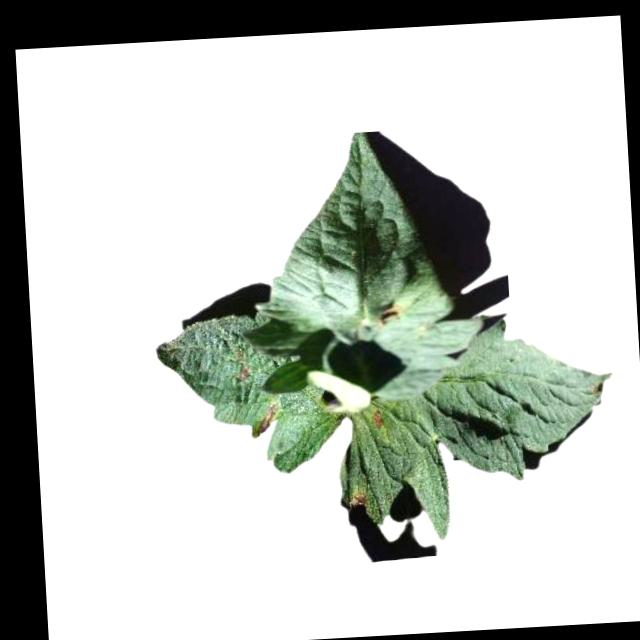Early_blight: (253, 402, 281, 434), (375, 301, 404, 325), (350, 490, 368, 509), (369, 408, 385, 429), (234, 366, 250, 381)
